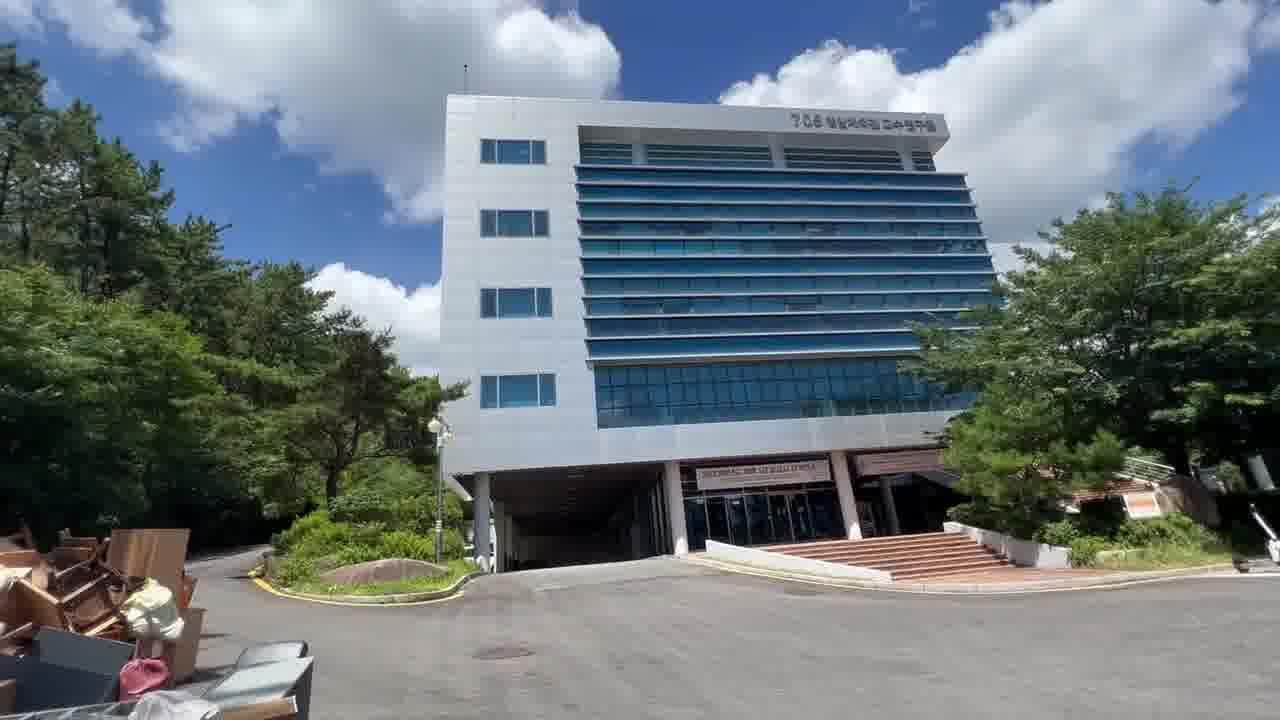building: (438, 74, 970, 550)
